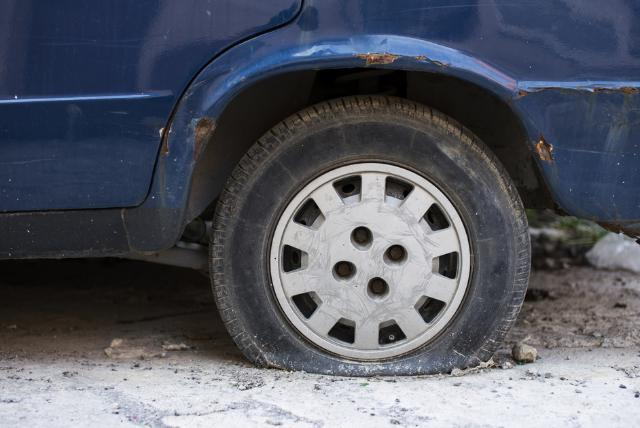Door: (0, 56, 172, 204)
Fender: (151, 34, 640, 238)
